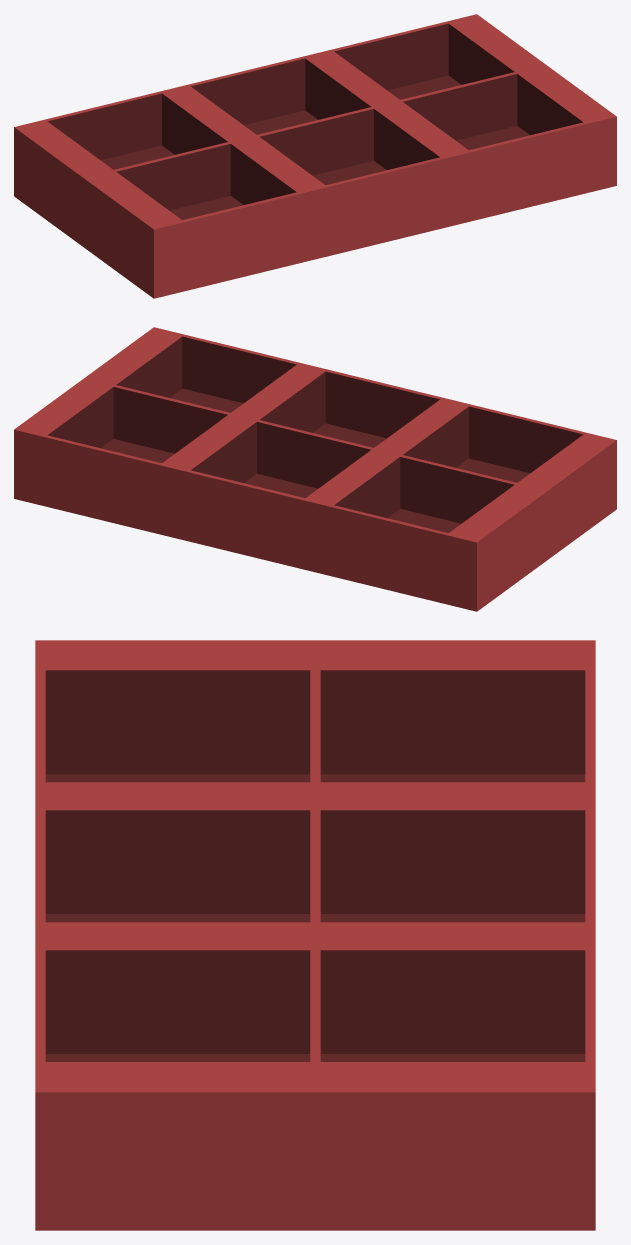
File: SM_LabCold_Rack_Vial_42x22x6.fbx
3 renders of one model, top to bottom at view 1: azimuth 30°, elevation 25°; view 2: azimuth 150°, elevation 25°; view 3: azimuth 270°, elevation 25°, orthographic. The views are drawn at different scales.
Visible parts, largest first — view 1: SM_LabCold_Rack_Vial_42x22x6.001; view 2: SM_LabCold_Rack_Vial_42x22x6.001; view 3: SM_LabCold_Rack_Vial_42x22x6.001.
Boxes of the visible parts, x1,y1,x2,y2 form: SM_LabCold_Rack_Vial_42x22x6.001: [14, 14, 616, 298]; SM_LabCold_Rack_Vial_42x22x6.001: [14, 327, 616, 611]; SM_LabCold_Rack_Vial_42x22x6.001: [35, 640, 595, 1230].
Size of the model in its own units: 0.42 by 0.06 by 0.22.
